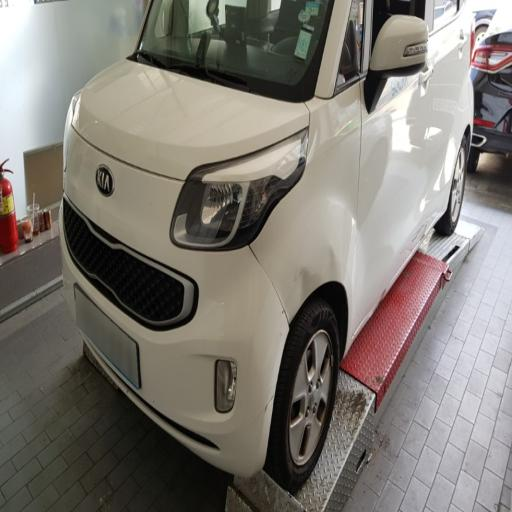broken: (230, 216, 283, 354)
dent: (286, 236, 336, 309)
